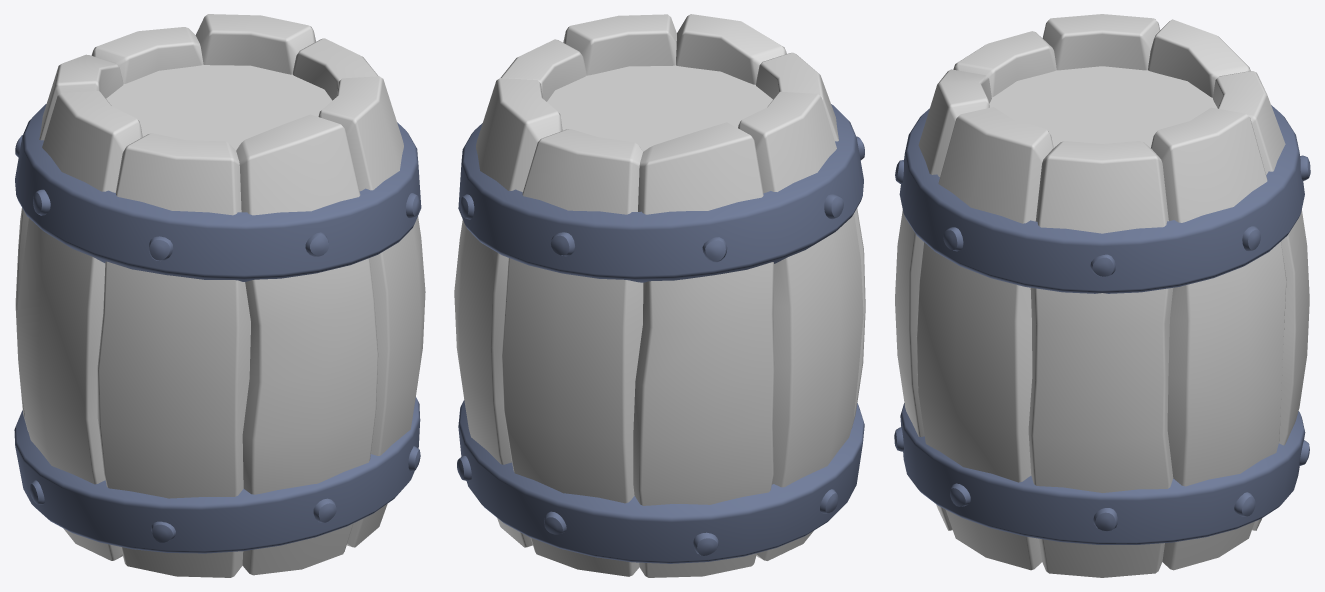
Rendered from WASH_Farm_BarrelTest.fbx.
The picture shows the model from 3 angles, left to right: view 1: azimuth 30°, elevation 25°; view 2: azimuth 150°, elevation 25°; view 3: azimuth 270°, elevation 25°; orthographic projection.
Visible parts, largest first — view 1: Barrel; view 2: Barrel; view 3: Barrel.
Boxes of the visible parts, x1,y1,x2,y2 form: Barrel: [14, 14, 425, 577]; Barrel: [454, 14, 865, 577]; Barrel: [894, 14, 1310, 577].
Size of the model in its own units: 0.9349 by 0.9348 by 1.06.
